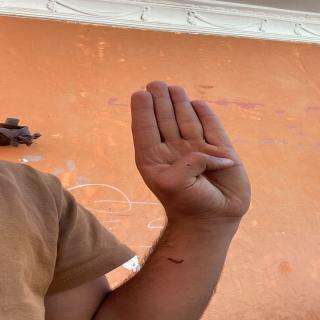KAAF: (115, 75, 265, 213)
